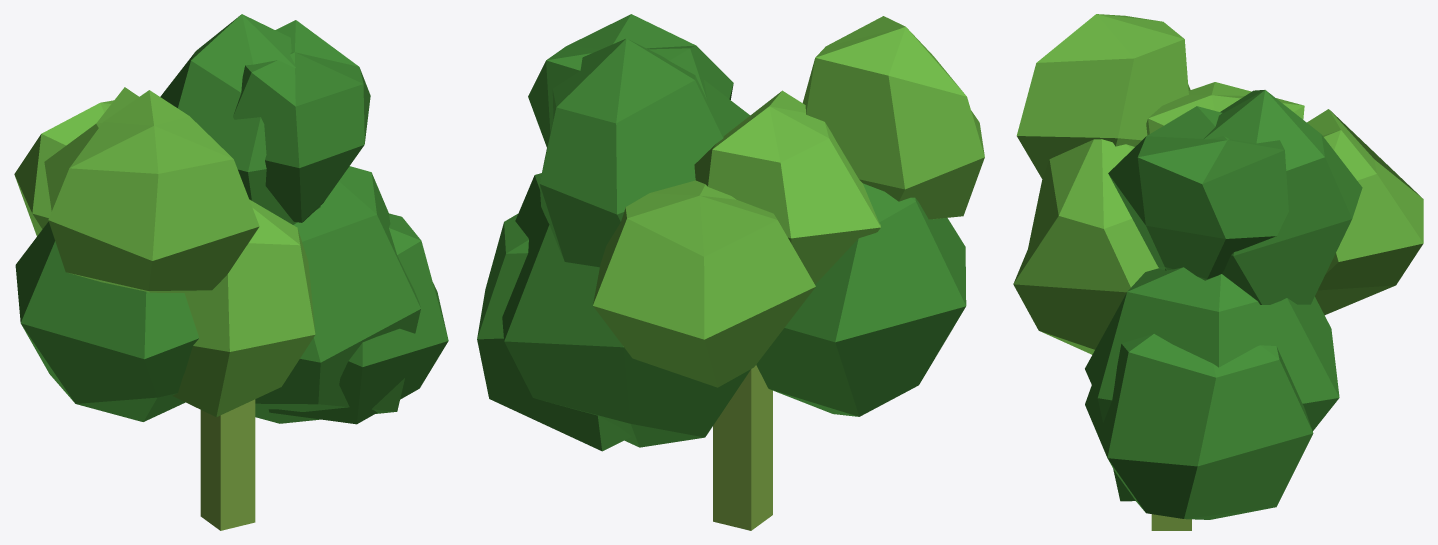
The model's file is potato_3.obj.
3 renders of one model, left to right at view 1: azimuth 30°, elevation 25°; view 2: azimuth 150°, elevation 25°; view 3: azimuth 270°, elevation 25°, orthographic. The views are drawn at different scales.
Visible parts, largest first — view 1: plant; view 2: plant; view 3: plant.
Boxes of the visible parts, x1,y1,x2,y2 form: plant: [14, 14, 448, 530]; plant: [477, 14, 984, 530]; plant: [1013, 14, 1423, 530].
Bounding box in the file's own units: 0.3695 × 0.3771 × 0.3034.
